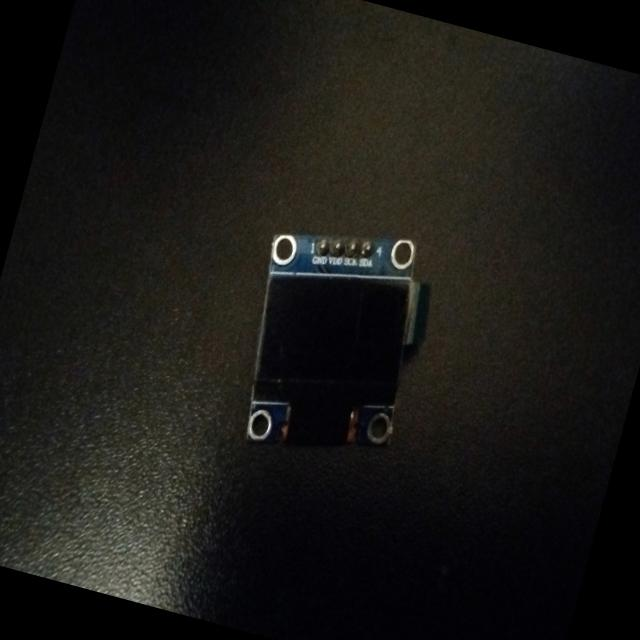oled: (218, 202, 448, 479)
